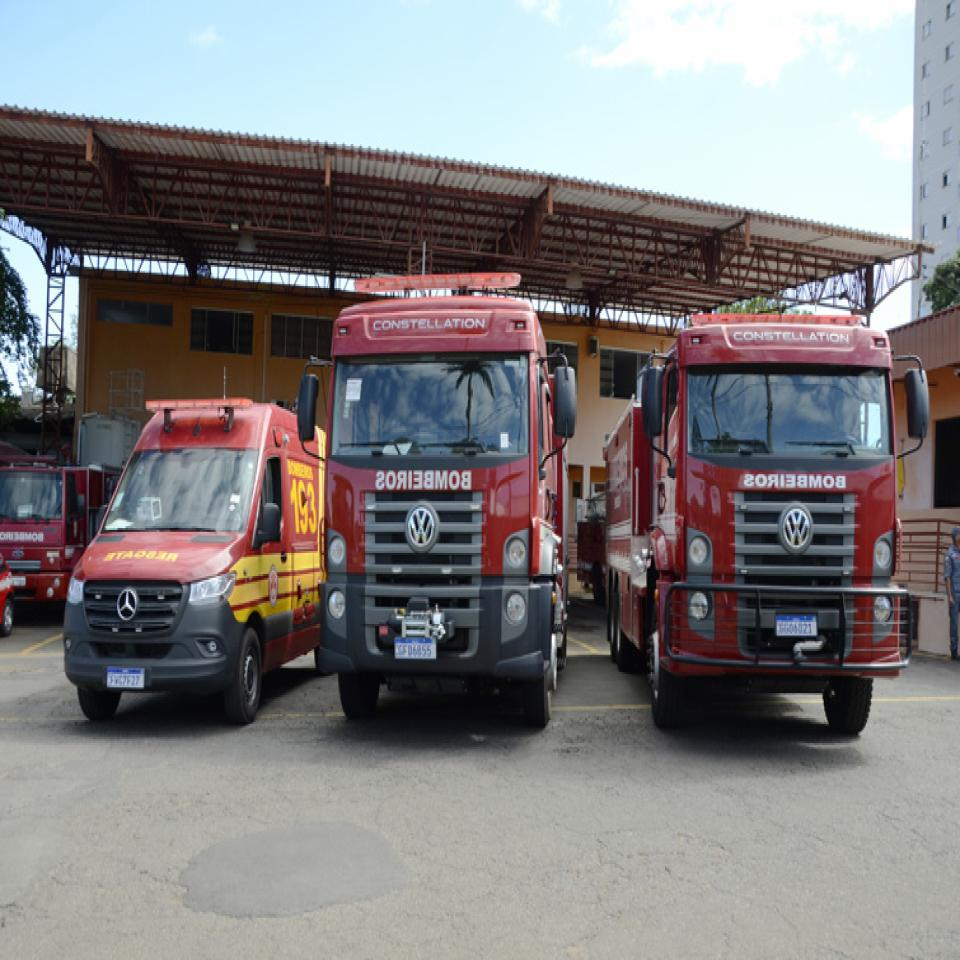viatura: (602, 312, 931, 737), (296, 270, 578, 732), (63, 397, 326, 726), (0, 452, 129, 622)
